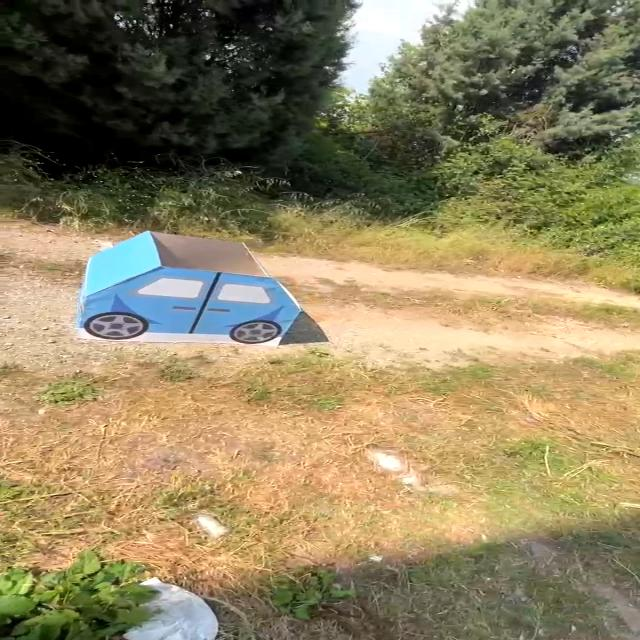blue_car: (48, 226, 317, 359)
